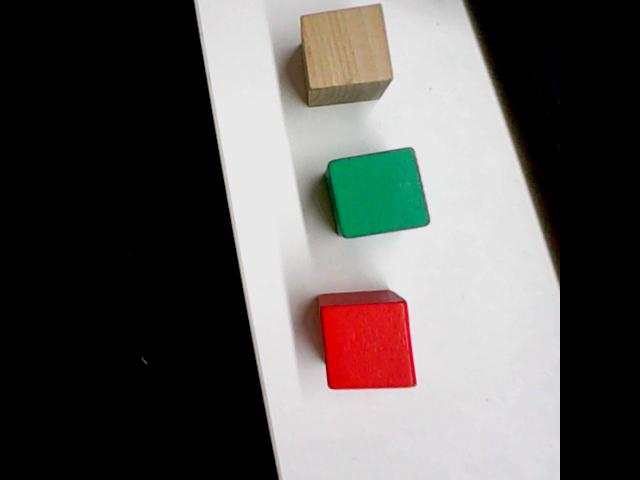green_box: (322, 144, 433, 241)
raw_box: (297, 0, 396, 109)
red_box: (314, 286, 420, 393)
